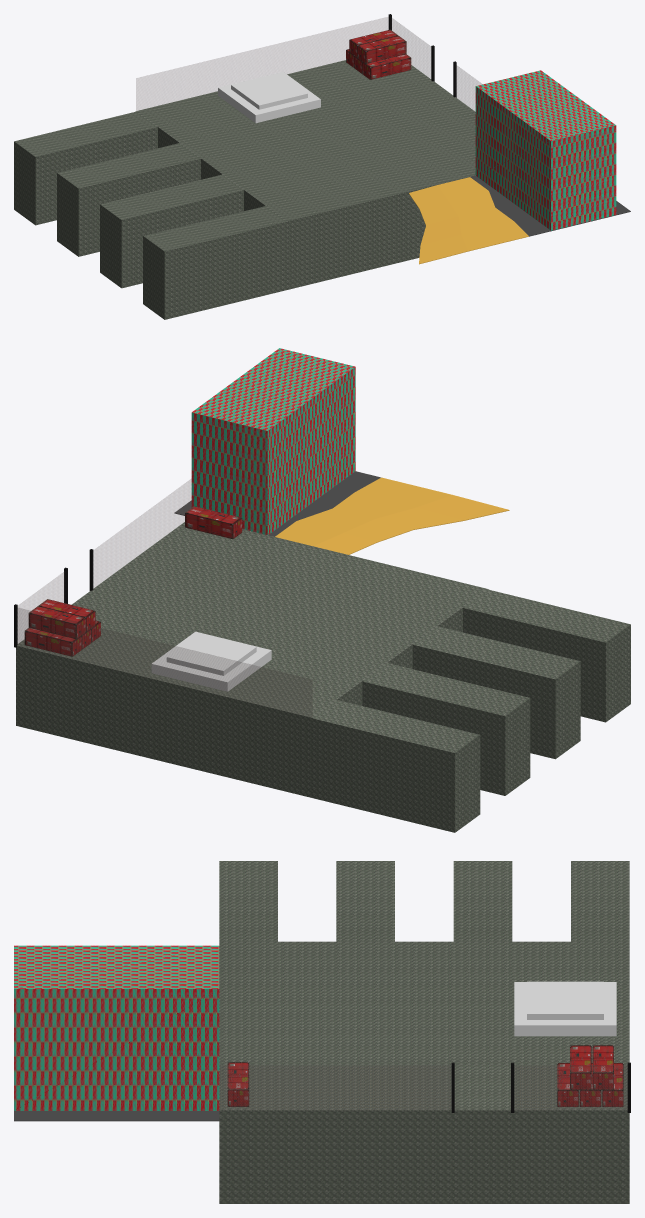
3 views of the same model, one above another, from view 1: azimuth 30°, elevation 25°; view 2: azimuth 150°, elevation 25°; view 3: azimuth 270°, elevation 25° (orthographic). The views are drawn at different scales.
Visible parts, largest first — view 1: DOCKYARD-COL, DOCKYARD_COMPANY-COL, DOCK_YARD_FENCE-COL, 01_street_base_plate-COL.024, Plane, CONTAINERS-col.004, CONTAINERS-col.003, CONTAINERS-col.005; view 2: DOCKYARD-COL, DOCKYARD_COMPANY-COL, DOCK_YARD_FENCE-COL, 01_street_base_plate-COL.024, Plane, CONTAINERS-col, CONTAINERS-col.005, CONTAINERS-col.001; view 3: DOCKYARD-COL, DOCKYARD_COMPANY-COL, DOCK_YARD_FENCE-COL, Plane, 01_street_base_plate-COL.024, CONTAINERS-col, CONTAINERS-col.004, CONTAINERS-col.005, CONTAINERS-col.003, CONTAINERS-col.001, FENCE_THINGS-COL.
Part boxes in pixels (left/top/right/bottom): DOCKYARD-COL: left=14, top=60, right=475, bottom=319; DOCKYARD_COMPANY-COL: left=475, top=70, right=616, bottom=230; DOCK_YARD_FENCE-COL: left=136, top=17, right=482, bottom=110; 01_street_base_plate-COL.024: left=409, top=175, right=630, bottom=264; Plane: left=218, top=72, right=320, bottom=123; CONTAINERS-col.004: left=357, top=35, right=406, bottom=63; CONTAINERS-col.003: left=362, top=54, right=411, bottom=79; CONTAINERS-col.005: left=349, top=29, right=397, bottom=57; DOCKYARD-COL: left=16, top=522, right=630, bottom=832; DOCKYARD_COMPANY-COL: left=191, top=348, right=355, bottom=535; DOCK_YARD_FENCE-COL: left=17, top=479, right=312, bottom=717; 01_street_base_plate-COL.024: left=174, top=471, right=509, bottom=554; Plane: left=151, top=631, right=271, bottom=691; CONTAINERS-col: left=185, top=506, right=242, bottom=539; CONTAINERS-col.005: left=28, top=606, right=85, bottom=639; CONTAINERS-col.001: left=24, top=628, right=81, bottom=656; DOCKYARD-COL: left=219, top=861, right=629, bottom=1203; DOCKYARD_COMPANY-COL: left=14, top=945, right=219, bottom=1110; DOCK_YARD_FENCE-COL: left=219, top=1065, right=627, bottom=1110; Plane: left=514, top=981, right=616, bottom=1036; 01_street_base_plate-COL.024: left=14, top=1111, right=219, bottom=1121; CONTAINERS-col: left=227, top=1062, right=249, bottom=1106; CONTAINERS-col.004: left=570, top=1045, right=591, bottom=1089; CONTAINERS-col.005: left=592, top=1045, right=613, bottom=1089; CONTAINERS-col.003: left=557, top=1063, right=578, bottom=1106; CONTAINERS-col.001: left=602, top=1063, right=623, bottom=1106; FENCE_THINGS-COL: left=451, top=1062, right=630, bottom=1112.
Size of the model in its own units: 767 by 296 by 770.
7 materials, 5 textured.
